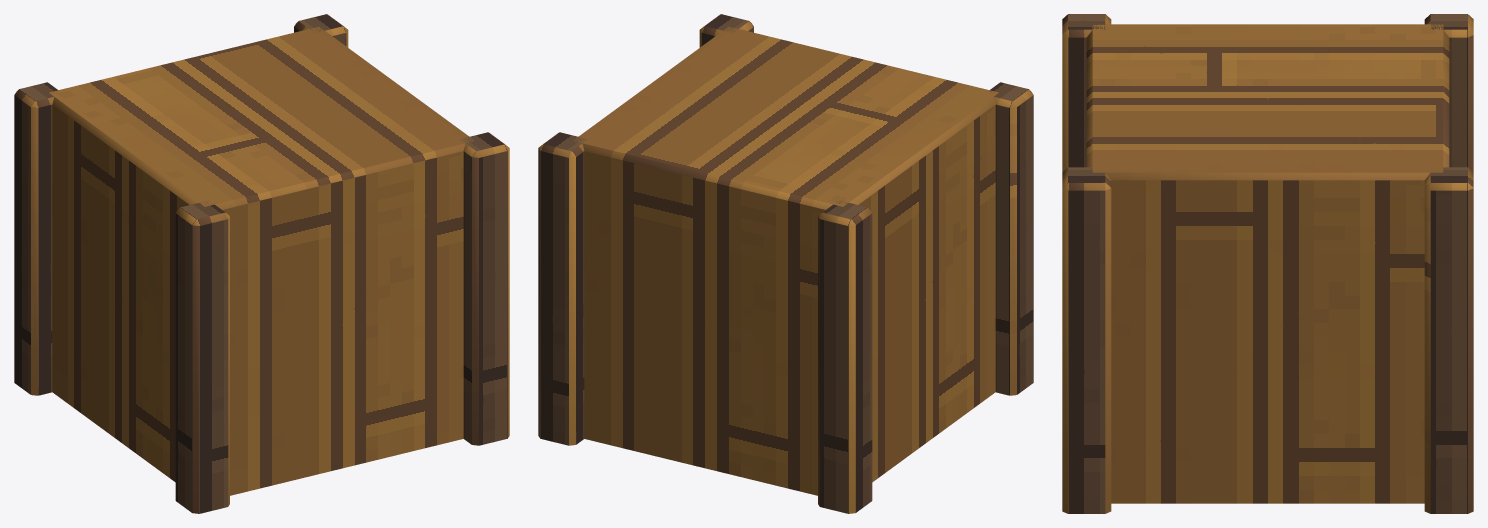
The model's file is crate_2.glb.
3 views of the same model, side by side, from view 1: azimuth 30°, elevation 25°; view 2: azimuth 150°, elevation 25°; view 3: azimuth 270°, elevation 25° (orthographic). The views are drawn at different scales.
Visible parts, largest first — view 1: crate_3; view 2: crate_3; view 3: crate_3.
Boxes of the visible parts, x1,y1,x2,y2 form: crate_3: (14, 14, 509, 513); crate_3: (538, 14, 1033, 513); crate_3: (1062, 14, 1473, 513).
Size of the model in its own units: 0.84 by 0.74 by 0.84.
2 materials, 2 textured.
